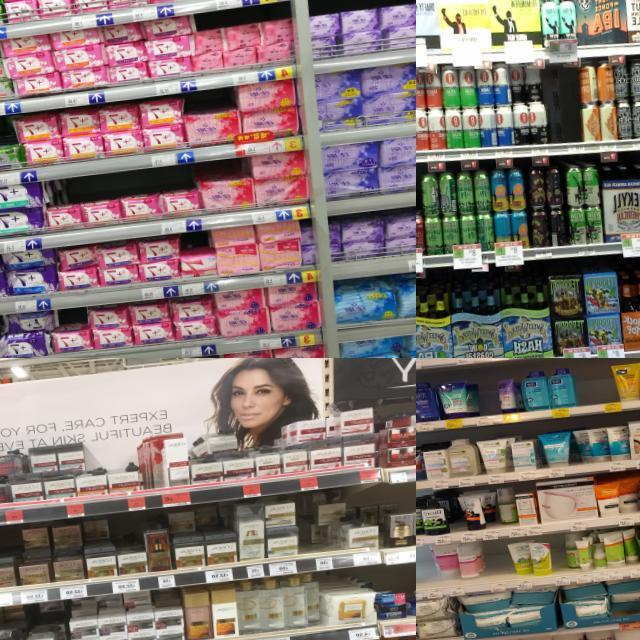empty: (544, 71, 583, 156), (575, 362, 615, 414), (482, 540, 512, 592), (474, 377, 500, 425), (548, 534, 568, 584), (416, 546, 432, 600)
